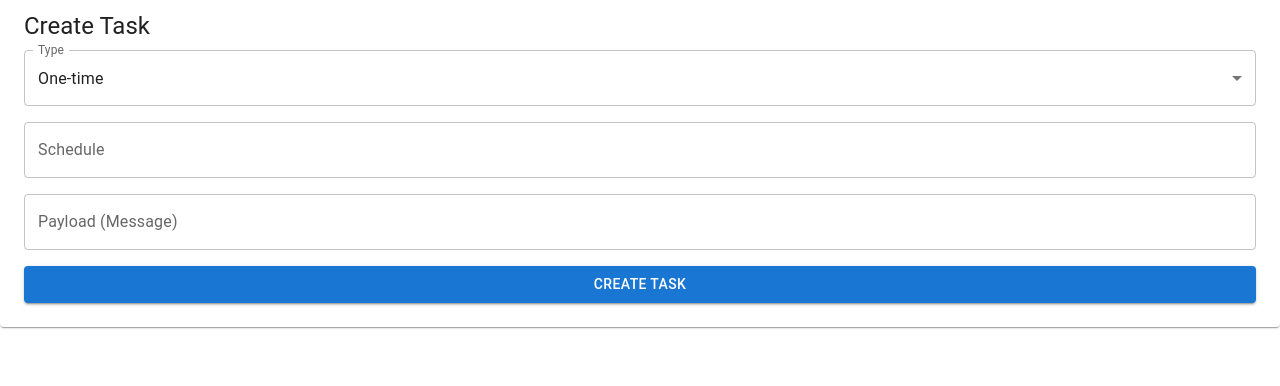
Test case: TaskForm Simple Integration (one-time tasks) › displays error for invalid one-time datetime
Step 1. Type "invalid-date" into the field labelled "Schedule" → (640, 150), box [24,122,1256,178]
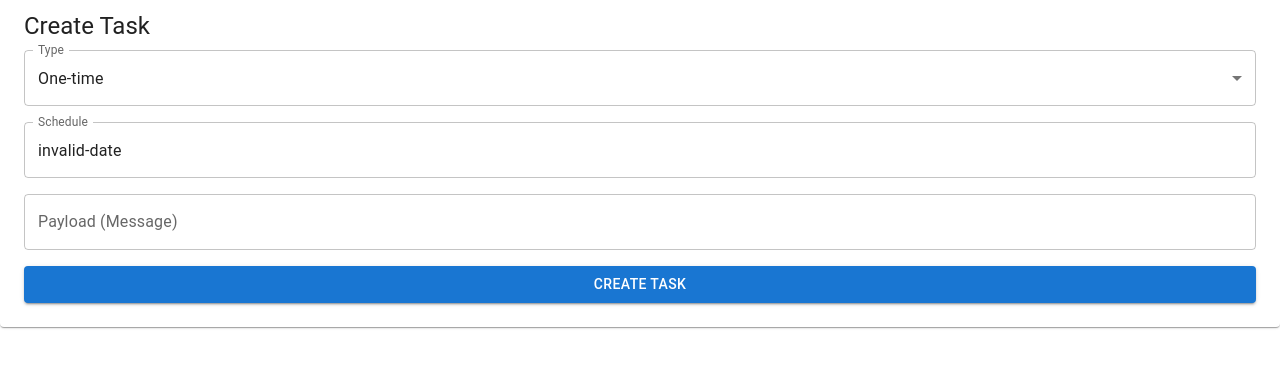
Step 2. Type "Test Message" into the field labelled "Payload (Message)" → (640, 222), box [24,194,1256,250]
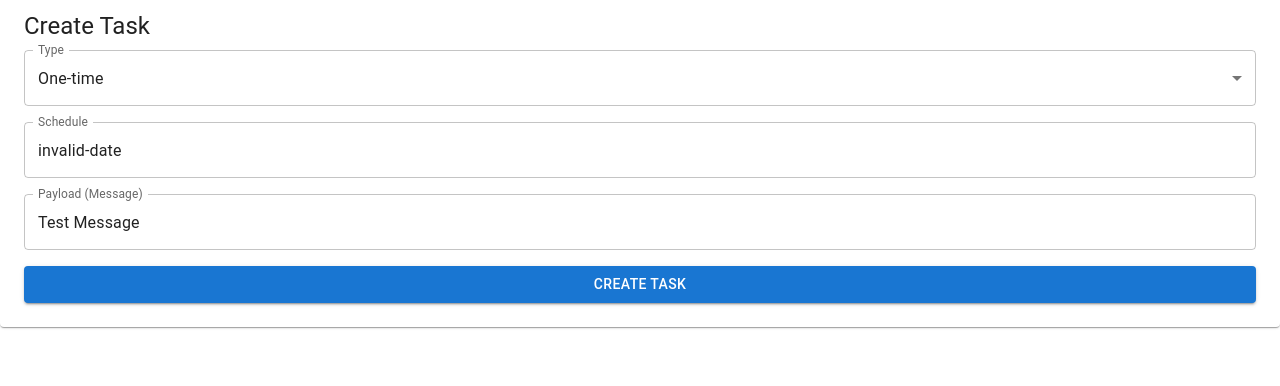
Step 3. Click the button "Create Task" → (640, 285), box [24,266,1256,303]
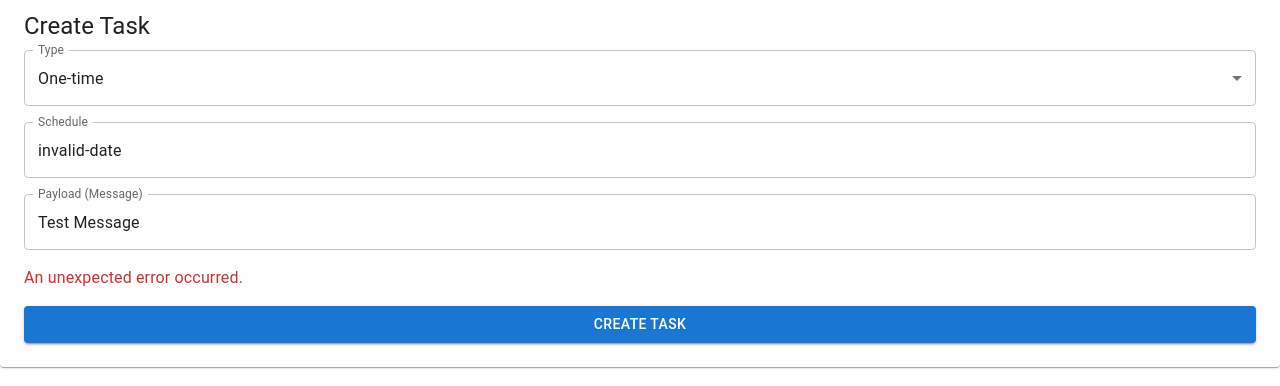
Now the text "An unexpected error occurred." is shown, box [24,268,243,287]
